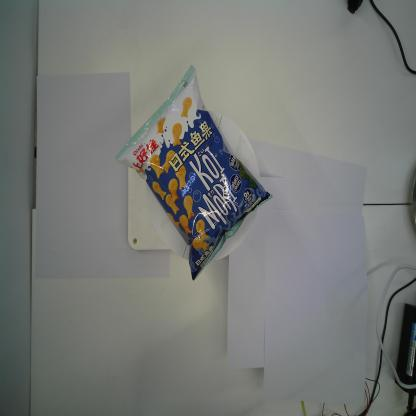Puffed Food: (115, 64, 272, 284)
